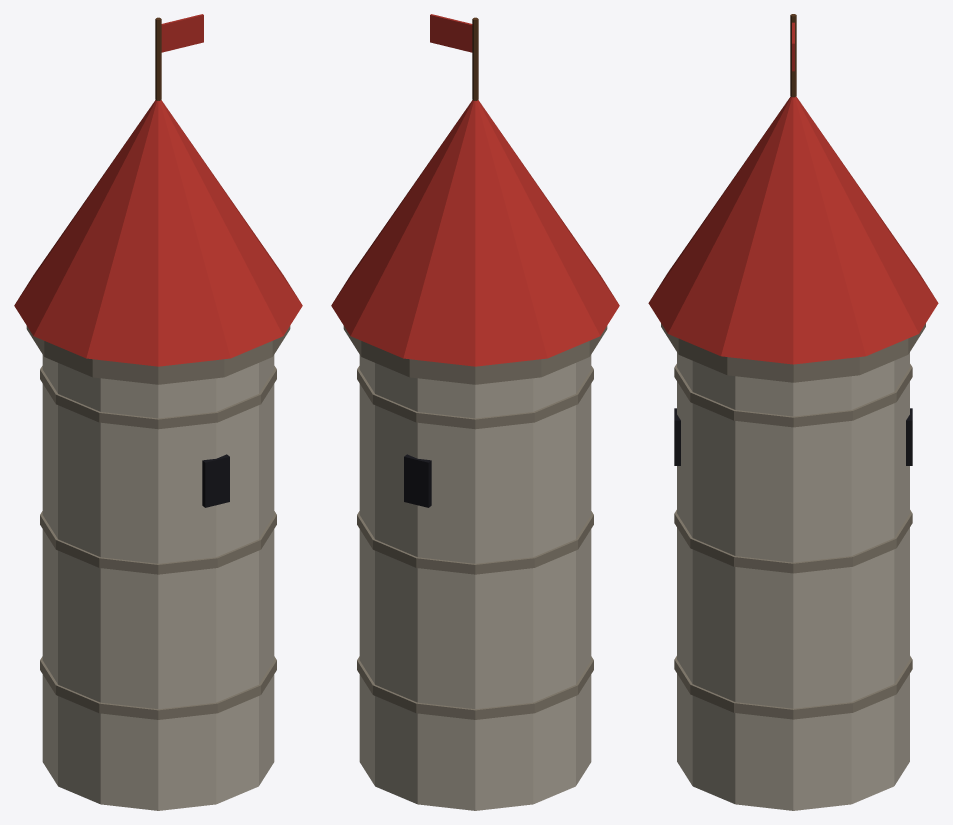
Rendered from tower_red.fbx.
The picture shows the model from 3 angles, left to right: view 1: azimuth 30°, elevation 25°; view 2: azimuth 150°, elevation 25°; view 3: azimuth 270°, elevation 25°; orthographic projection.
Parts seen in each view (by area): view 1: tower_red_Main; view 2: tower_red_Main; view 3: tower_red_Main.
Boxes of the visible parts, x1,y1,x2,y2 form: tower_red_Main: (14,14,302,810); tower_red_Main: (331,14,619,810); tower_red_Main: (648,14,938,810).
Size of the model in its own units: 3.24 by 9.2 by 3.24.
